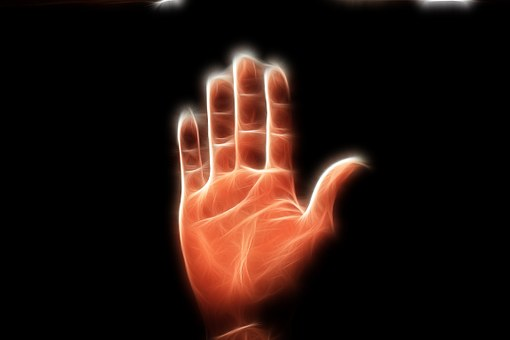palm: (181, 176, 321, 292)
